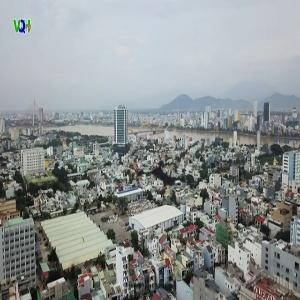drone: (119, 138, 208, 227)
